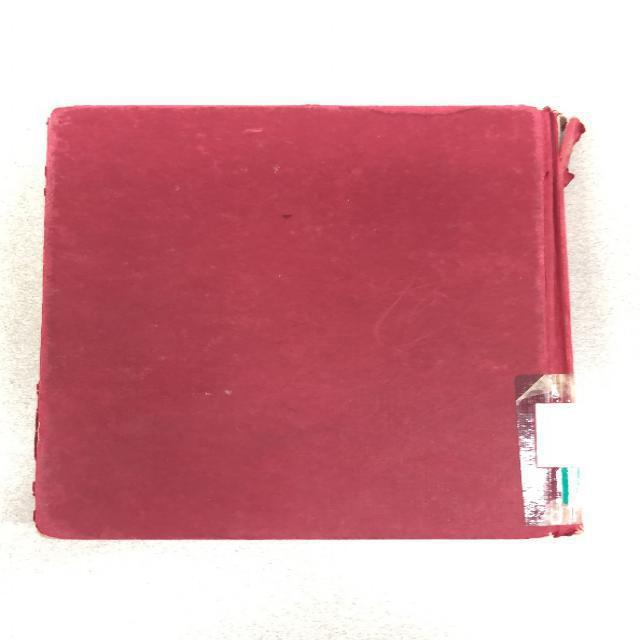Ripped: (512, 99, 596, 195), (26, 378, 55, 526)
Wornout: (43, 98, 527, 117), (529, 195, 554, 374), (33, 116, 72, 202), (465, 525, 589, 544), (31, 525, 89, 544)
